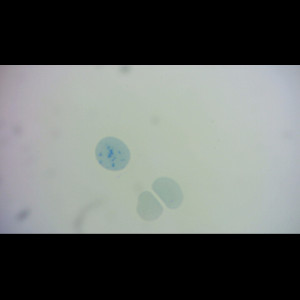aggregate reticulocyte: (94, 136, 132, 172)
erythrocyte: (151, 176, 186, 211), (135, 190, 165, 222)
